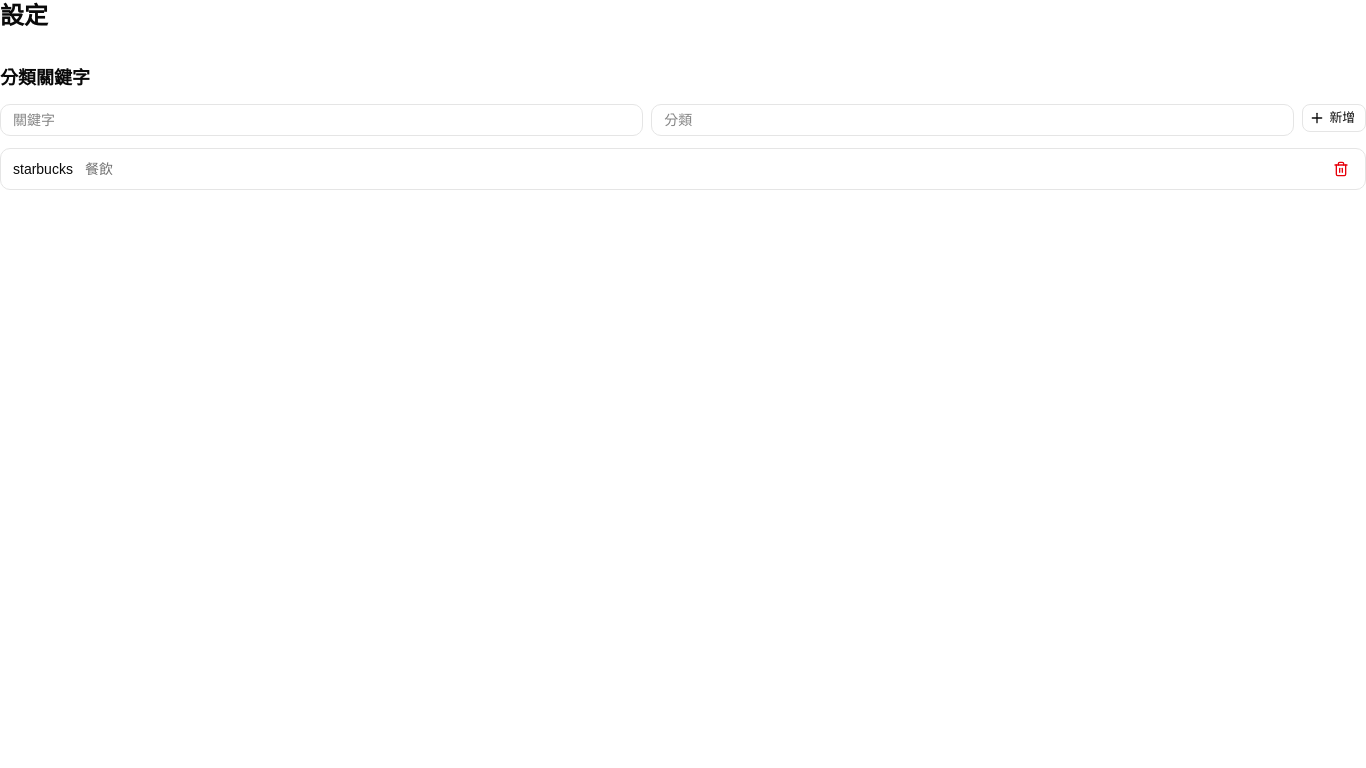
Test: SettingsPage › does not delete when the confirmation dialog is cancelled
Check: the text "starbucks" is shown, box [13,159,73,179]
Click the button named "刪除 starbucks".
click(1341, 169)  # box [1329,157,1353,181]
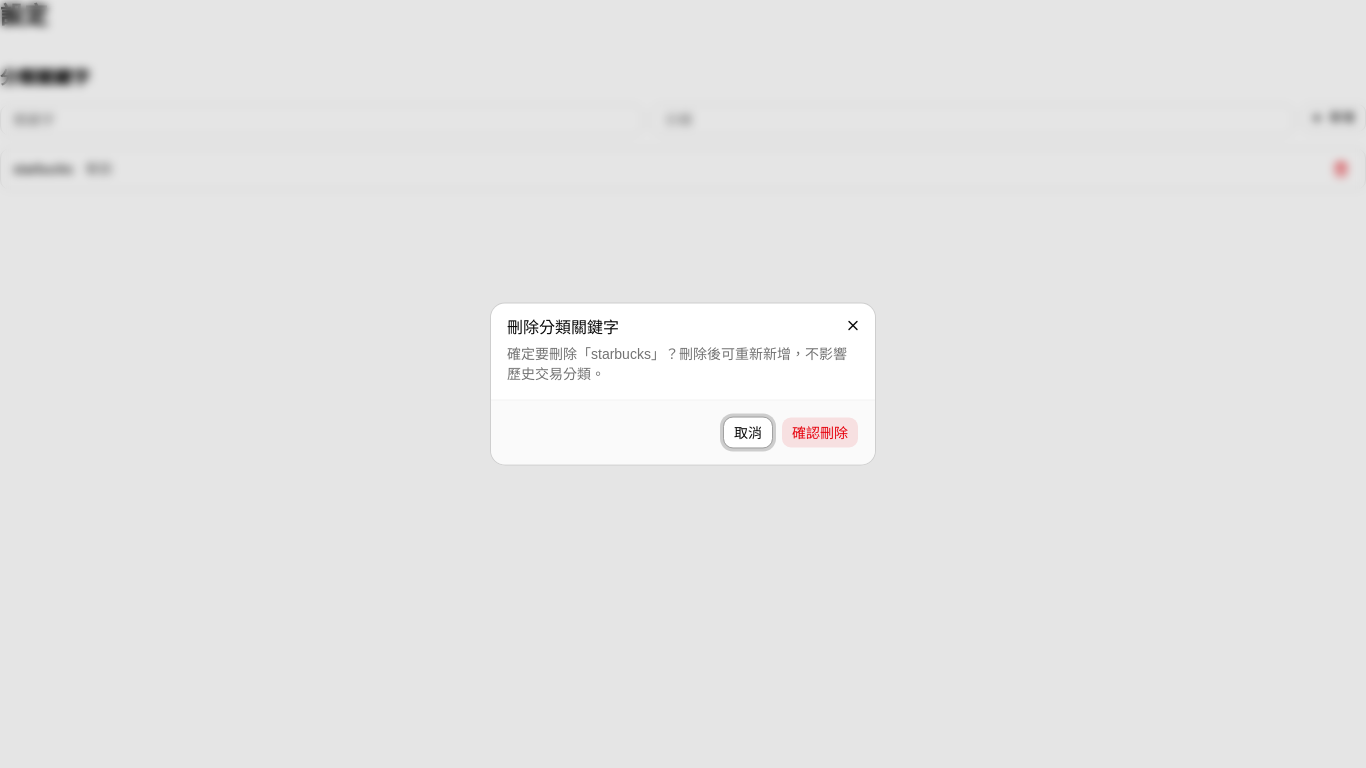
Check: the dialog is shown, box [491,304,875,464]
Click the button "取消".
click(748, 432)  # box [723,416,773,448]
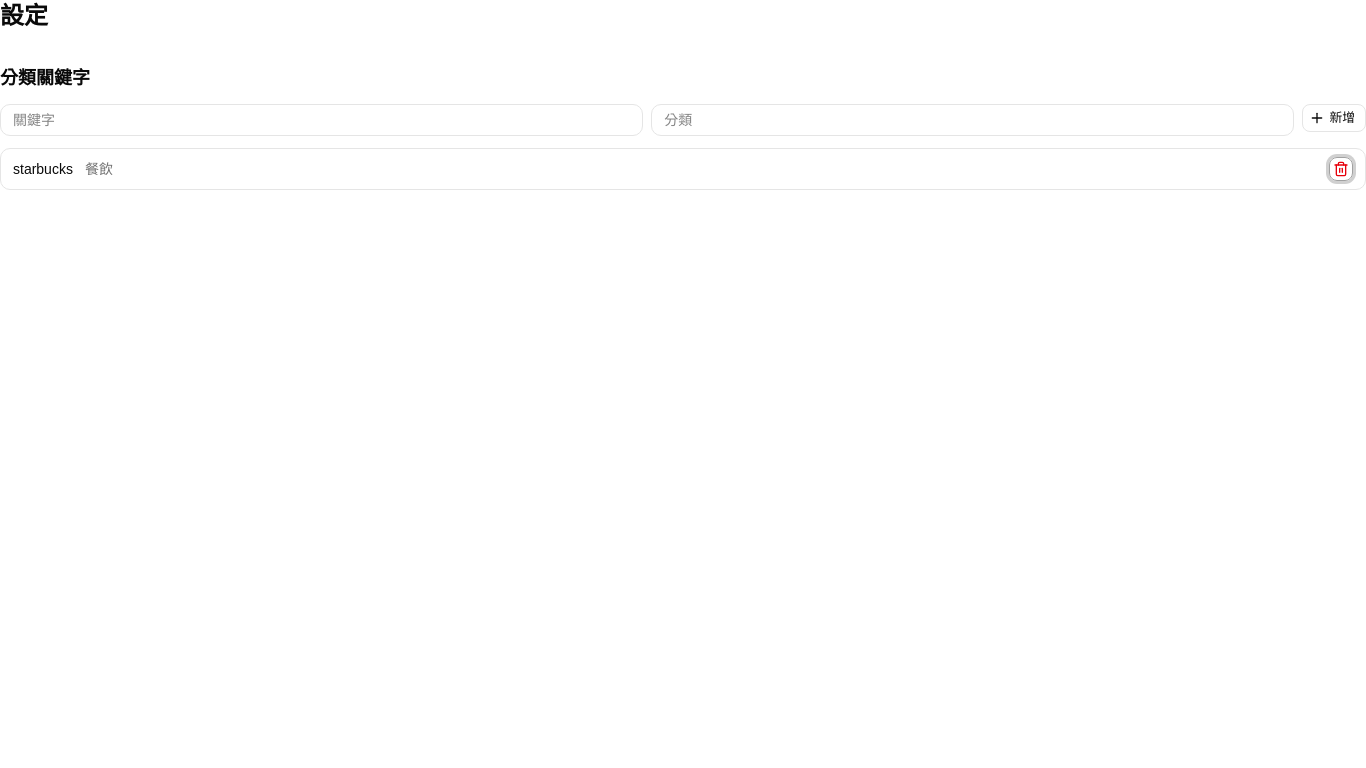
Check: the dialog is gone
